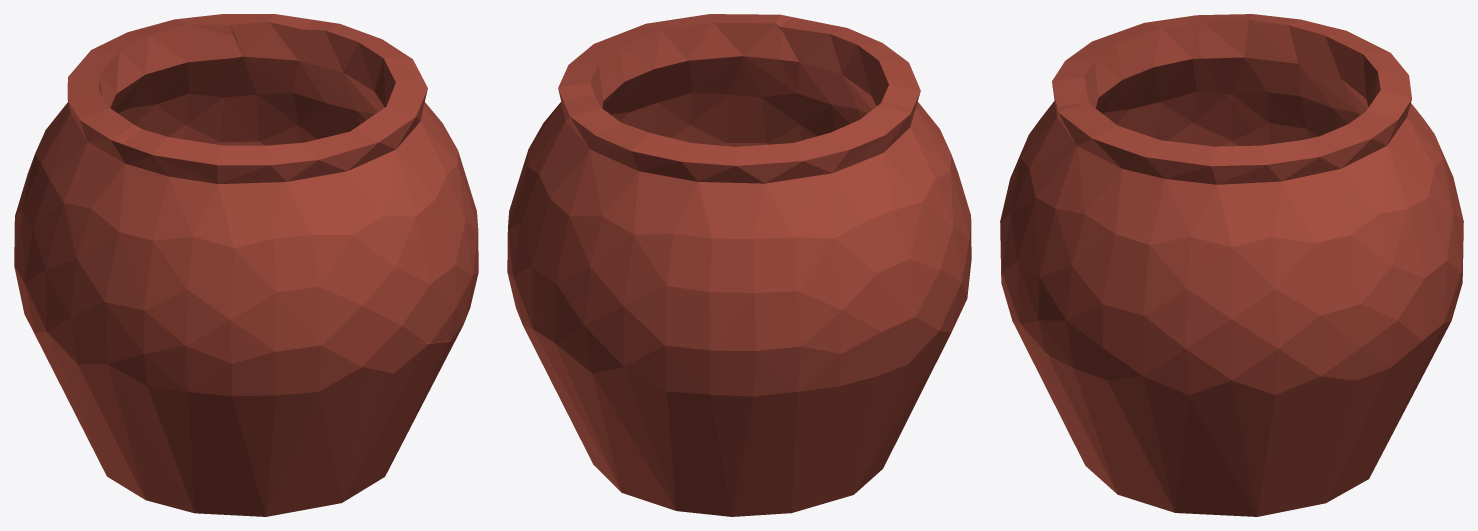
The model's file is Pottery 2_1b.fbx.
The picture shows the model from 3 angles, left to right: view 1: azimuth 30°, elevation 25°; view 2: azimuth 150°, elevation 25°; view 3: azimuth 270°, elevation 25°; orthographic projection.
Visible parts, largest first — view 1: Pottery 2_1b.002, Pottery 2_1b.003, Pottery 2_1b.001, Pottery 2_1b.006, Pottery 2_1b.004, Pottery 2_1b, Pottery 2_1b.005; view 2: Pottery 2_1b.001, Pottery 2_1b.003, Pottery 2_1b, Pottery 2_1b.004, Pottery 2_1b.002, Pottery 2_1b.005; view 3: Pottery 2_1b.003, Pottery 2_1b.004, Pottery 2_1b.001, Pottery 2_1b, Pottery 2_1b.002, Pottery 2_1b.006.
Part boxes in pixels (left/top/right/bottom): Pottery 2_1b.002: left=39, top=129, right=384, bottom=442; Pottery 2_1b.003: left=298, top=20, right=478, bottom=343; Pottery 2_1b.001: left=14, top=14, right=234, bottom=304; Pottery 2_1b.006: left=178, top=333, right=457, bottom=486; Pottery 2_1b.004: left=172, top=14, right=363, bottom=145; Pottery 2_1b: left=90, top=442, right=394, bottom=516; Pottery 2_1b.005: left=22, top=247, right=177, bottom=463; Pottery 2_1b.001: left=594, top=101, right=926, bottom=465; Pottery 2_1b.003: left=526, top=14, right=814, bottom=156; Pottery 2_1b: left=543, top=366, right=901, bottom=516; Pottery 2_1b.004: left=507, top=94, right=621, bottom=397; Pottery 2_1b.002: left=779, top=17, right=971, bottom=315; Pottery 2_1b.005: left=809, top=264, right=959, bottom=469; Pottery 2_1b.003: left=1001, top=103, right=1346, bottom=441; Pottery 2_1b.004: left=1257, top=111, right=1462, bottom=412; Pottery 2_1b.001: left=1183, top=14, right=1463, bottom=287; Pottery 2_1b: left=1067, top=342, right=1440, bottom=516; Pottery 2_1b.002: left=1000, top=17, right=1251, bottom=258; Pottery 2_1b.006: left=1001, top=259, right=1254, bottom=483.
Bounding box in the file's own units: 72 × 63.8 × 72.
